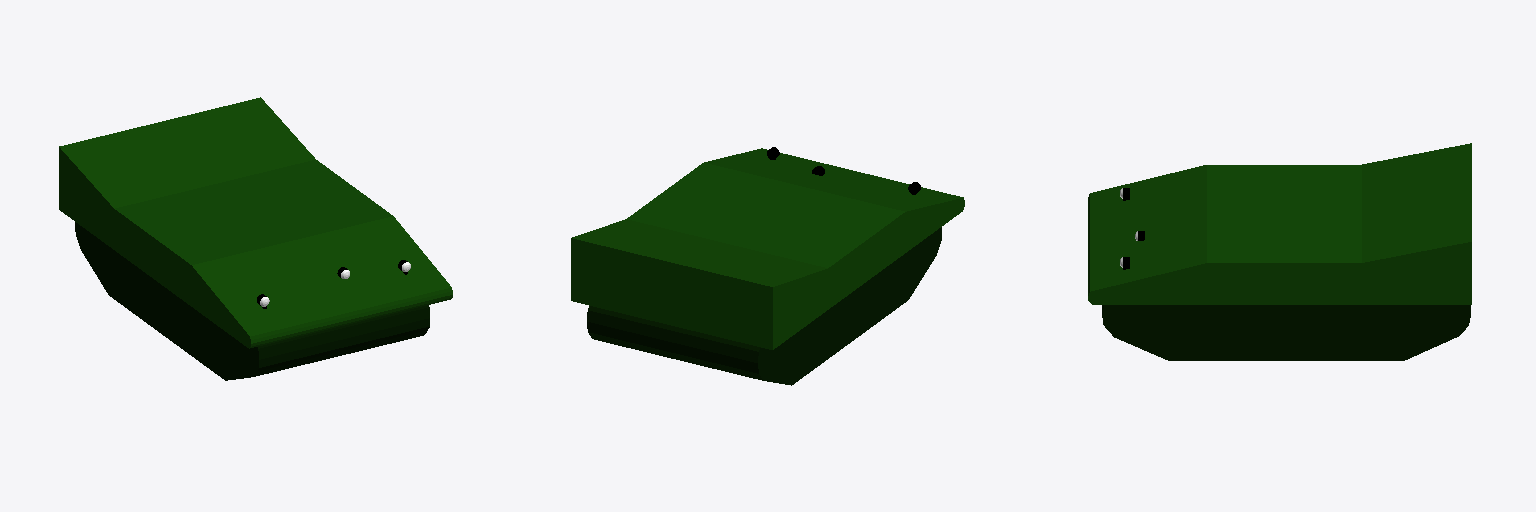
The model's file is tank_body.obj.
3 views of the same model, side by side, from view 1: azimuth 30°, elevation 25°; view 2: azimuth 150°, elevation 25°; view 3: azimuth 270°, elevation 25° (orthographic).
Visible parts, largest first — view 1: meioTank, BaixoTank; view 2: meioTank, BaixoTank; view 3: meioTank, BaixoTank.
Boxes of the visible parts, box(x1,y1,x2,y2) form: meioTank: box(59, 97, 452, 348); BaixoTank: box(75, 222, 429, 380); meioTank: box(571, 148, 964, 349); BaixoTank: box(587, 227, 941, 385); meioTank: box(1088, 143, 1471, 304); BaixoTank: box(1102, 305, 1470, 360).
Bounding box in the file's own units: 6.06 × 3.65 × 9.98.